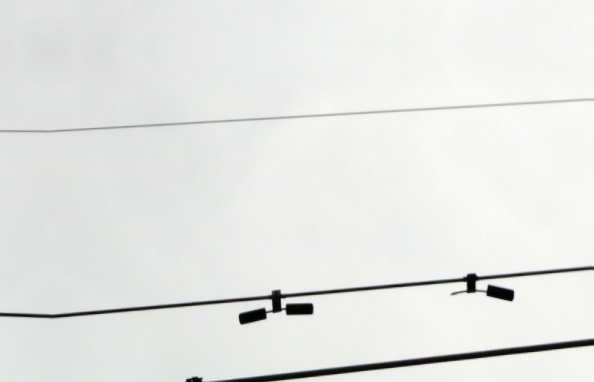damper: (237, 288, 315, 326)
damper_defect: (447, 270, 515, 304)
